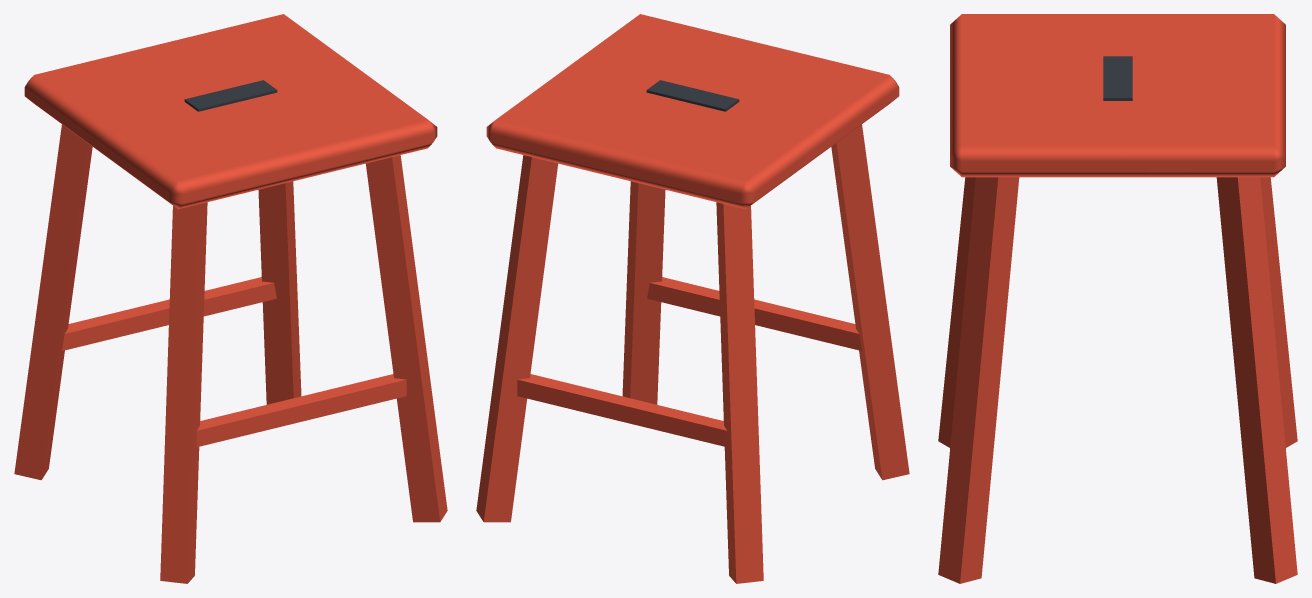
File: station_processing_ausstattung_3_0.glb
The picture shows the model from 3 angles, left to right: view 1: azimuth 30°, elevation 25°; view 2: azimuth 150°, elevation 25°; view 3: azimuth 270°, elevation 25°; orthographic projection. The views are drawn at different scales.
Parts seen in each view (by area): view 1: station_processing_ausstattung_3_0; view 2: station_processing_ausstattung_3_0; view 3: station_processing_ausstattung_3_0.
Part boxes in pixels (<box>): station_processing_ausstattung_3_0: <box>14,14,447,583</box>; station_processing_ausstattung_3_0: <box>476,14,909,583</box>; station_processing_ausstattung_3_0: <box>938,14,1297,583</box>.
Size of the model in its own units: 0.3638 by 0.4849 by 0.3638.
